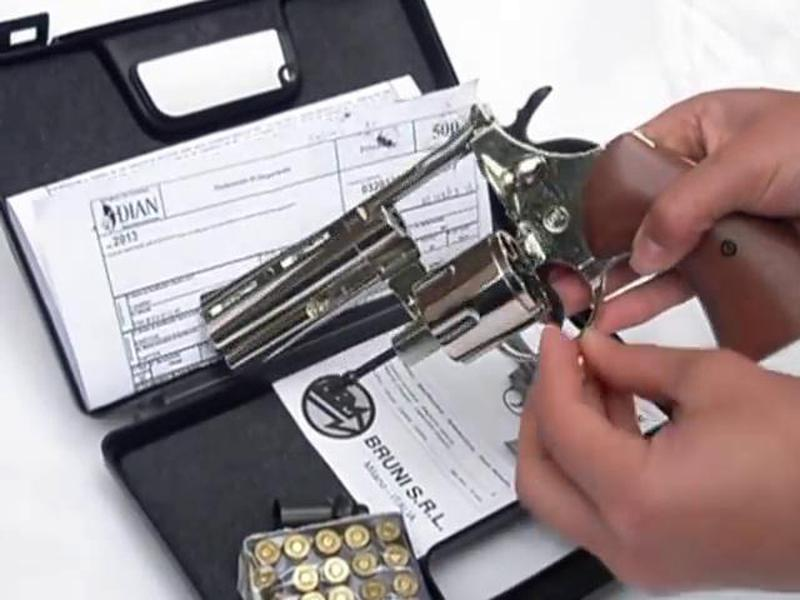Revolver: (174, 84, 800, 349)
